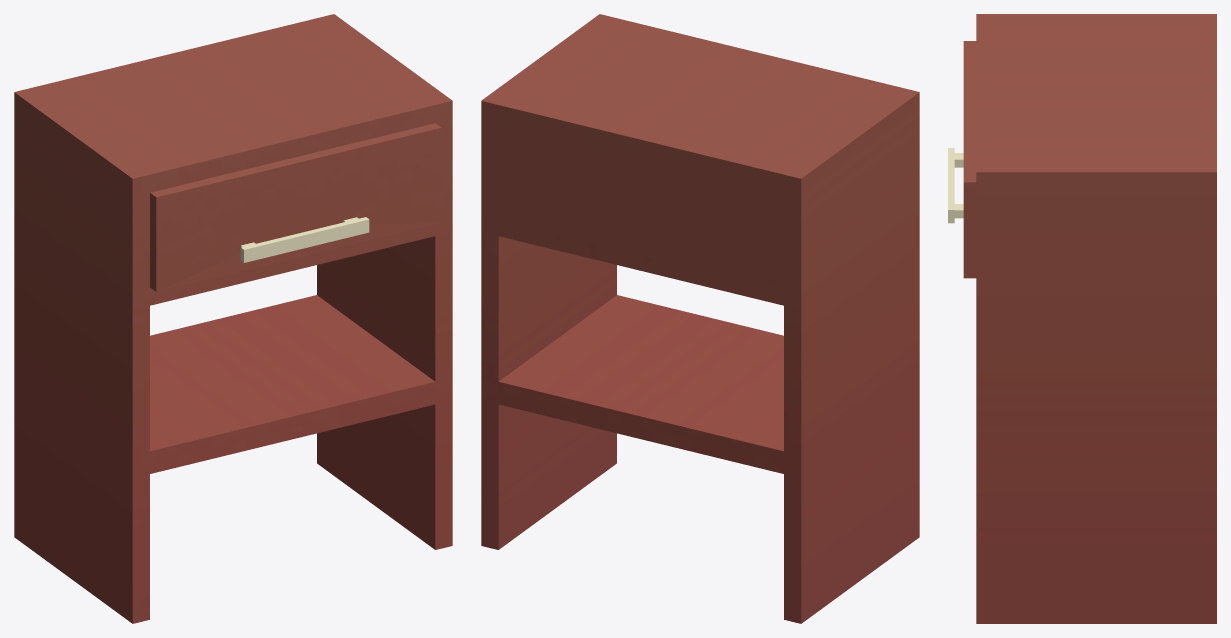
The model's file is SM_Cabinet_Upper_Long_1_04.fbx.
3 views of the same model, side by side, from view 1: azimuth 30°, elevation 25°; view 2: azimuth 150°, elevation 25°; view 3: azimuth 270°, elevation 25° (orthographic).
Parts seen in each view (by area): view 1: SM_Cabinet_Upper_Long_1_04; view 2: SM_Cabinet_Upper_Long_1_04; view 3: SM_Cabinet_Upper_Long_1_04.
Boxes of the visible parts, bbox=[...] form: SM_Cabinet_Upper_Long_1_04: bbox=[14, 14, 452, 623]; SM_Cabinet_Upper_Long_1_04: bbox=[481, 14, 919, 623]; SM_Cabinet_Upper_Long_1_04: bbox=[948, 14, 1216, 623].
Size of the model in its own units: 114 by 152 by 81.97.
